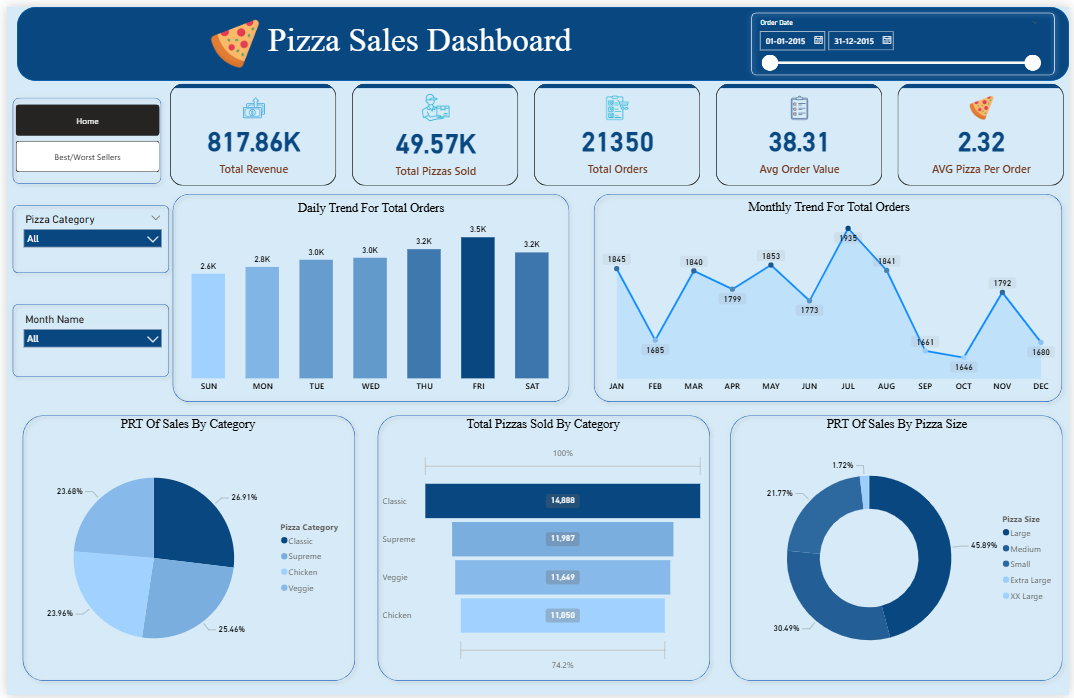

What the dashboard file says about the page in this screenshot:
{"tool":"powerbi","page":{"name":"Home","canvas":[1700,1100],"ordinal":0},"visuals":[{"type":"cardVisual","fields":{"Data":["pizza_sales.Total Revenue","pizza_sales.Total Pizzas Sold","pizza_sales.Total Orders","pizza_sales.Avg Order Value","pizza_sales.AVG Pizza Per Order"]},"box":[256.2,118,1441.4,173.3],"z":0},{"type":"shape","box":[15,0,1683.3,118.3],"z":1000},{"type":"textbox","box":[91.7,18.3,1056.7,85],"z":2000},{"type":"image","box":[191.7,13.3,345,90],"z":3000},{"type":"shape","box":[256.4,290.9,652.7,350.9],"z":4000},{"type":"shape","box":[930.9,290.9,767.3,350.9],"z":5000},{"type":"columnChart","title":"Daily Trend For Total Orders","fields":{"Category":["pizza_sales.Order Day"],"Y":["pizza_sales.Total Orders"]},"box":[256.4,309.1,652.7,316.4],"z":6000},{"type":"areaChart","title":"Monthly Trend For Total Orders","fields":{"Category":["pizza_sales.Order Month"],"Y":["pizza_sales.Total Orders"]},"box":[945.5,307.3,738.2,318.2],"z":7000},{"type":"shape","box":[15,643.3,550,443.3],"z":8000},{"type":"shape","box":[583.3,643.3,550,443.3],"z":9000},{"type":"shape","box":[1148.3,643.3,550,443.3],"z":10000},{"type":"pieChart","title":"PRT Of Sales By Category","fields":{"Category":["pizza_sales.pizza_category"],"Y":["pizza_sales.Total Revenue"]},"box":[28.3,656.7,523.3,430],"z":11000},{"type":"donutChart","title":"PRT Of Sales By Pizza Size","fields":{"Category":["pizza_sales.pizza_size"],"Y":["pizza_sales.Total Revenue"]},"box":[1161.7,656.7,523.3,430],"z":12000},{"type":"funnel","title":"Total Pizzas Sold By Category","fields":{"Category":["pizza_sales.pizza_category"],"Y":["pizza_sales.Total Pizzas Sold"]},"box":[596.7,656.7,523.3,430],"z":13000},{"type":"shape","box":[1182.2,0,503.3,118.3],"z":14000,"group":"g3"},{"type":"group","id":"g1","title":"Group 1","box":[0,308.3,268.3,126.7],"z":14000},{"type":"shape","box":[0,308.3,268.3,126.7],"z":14000,"group":"g1"},{"type":"shape","box":[0,466.7,268.3,135],"z":14000,"group":"g2"},{"type":"slicer","fields":{"Values":["pizza_sales.order_date"]},"box":[1192.2,13.3,470,90],"z":15000,"group":"g3"},{"type":"slicer","fields":{"Values":["pizza_sales.pizza_category"]},"box":[15,324.4,241.7,94.5],"z":15000,"group":"g1"},{"type":"group","id":"g2","title":"Group 1","box":[0,466.7,268.3,135],"z":15000},{"type":"slicer","fields":{"Values":["pizza_sales.Month Name"]},"box":[15,483.8,241.7,100.7],"z":15000,"group":"g2"},{"type":"shape","box":[0,135,256,156],"z":15001},{"type":"pageNavigator","box":[13.3,155,230,50],"z":15002},{"type":"pageNavigator","box":[13.3,213.3,230,50],"z":15003},{"type":"group","id":"g3","title":"Group 1","box":[1182.2,0,503.3,118.3],"z":15005}]}

Visuals, with their boxes in screenshot pixels (x1, y1, x2, y2), scaled from the page's 1700x1100 canvas onto the 1074x698 screenshot:
cardVisual - pizza_sales.Total Revenue x pizza_sales.Total Pizzas Sold: box=[162, 75, 1072, 185]
shape: box=[9, 0, 1073, 75]
textbox: box=[58, 12, 726, 66]
image: box=[121, 8, 339, 66]
shape: box=[162, 185, 574, 407]
shape: box=[588, 185, 1073, 407]
"Daily Trend For Total Orders" columnChart: box=[162, 196, 574, 397]
"Monthly Trend For Total Orders" areaChart: box=[597, 195, 1064, 397]
shape: box=[9, 408, 357, 689]
shape: box=[369, 408, 716, 689]
shape: box=[725, 408, 1073, 689]
"PRT Of Sales By Category" pieChart: box=[18, 417, 348, 690]
"PRT Of Sales By Pizza Size" donutChart: box=[734, 417, 1065, 690]
"Total Pizzas Sold By Category" funnel: box=[377, 417, 708, 690]
shape: box=[747, 0, 1065, 75]
"Group 1" group: box=[0, 196, 170, 276]
shape: box=[0, 196, 170, 276]
shape: box=[0, 296, 170, 382]
slicer - pizza_sales.order_date: box=[753, 8, 1050, 66]
slicer - pizza_sales.pizza_category: box=[9, 206, 162, 266]
"Group 1" group: box=[0, 296, 170, 382]
slicer - pizza_sales.Month Name: box=[9, 307, 162, 371]
shape: box=[0, 86, 162, 185]
pageNavigator: box=[8, 98, 154, 130]
pageNavigator: box=[8, 135, 154, 167]
"Group 1" group: box=[747, 0, 1065, 75]
